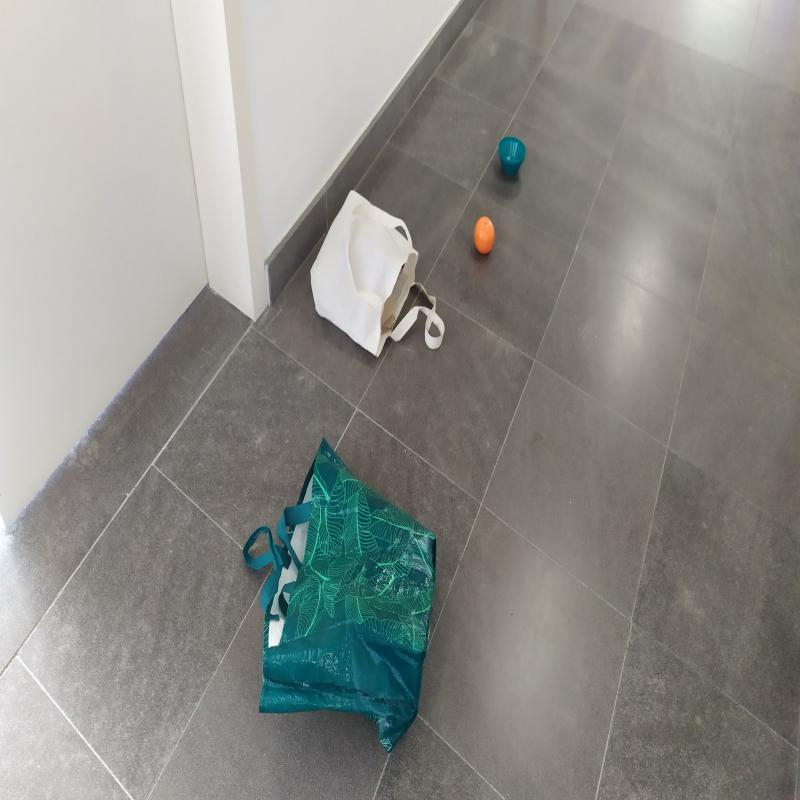Bowl: (499, 133, 524, 174)
Orange: (475, 215, 496, 253)
